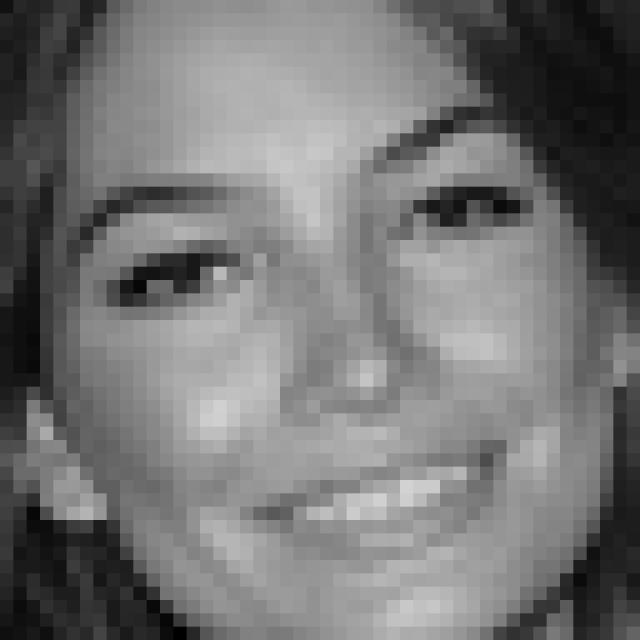happy: (64, 93, 540, 582)
